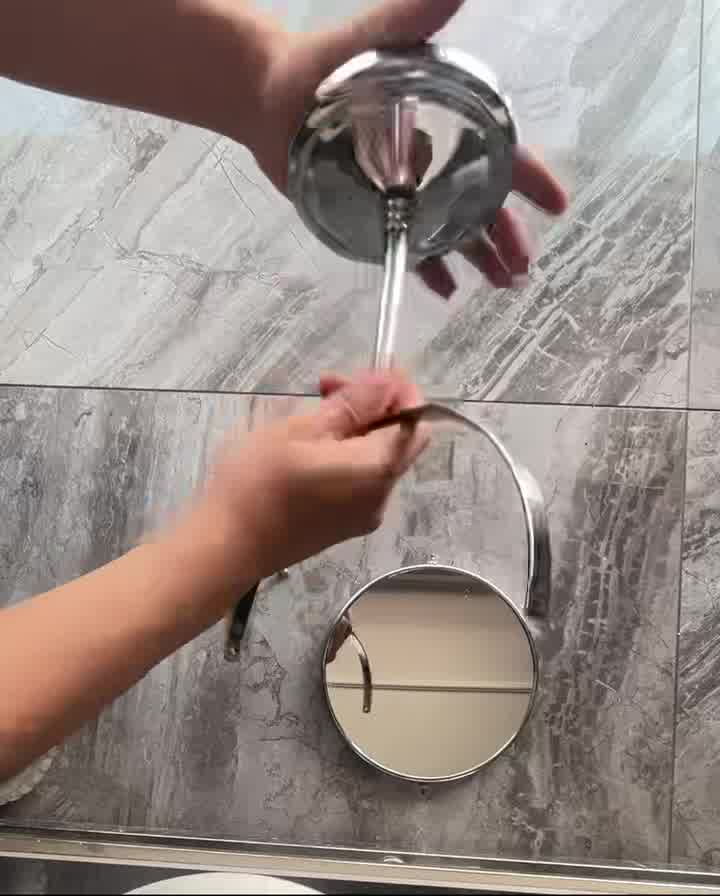base: (283, 31, 556, 286)
frame: (218, 208, 591, 654)
mirror: (313, 553, 596, 790)
screw: (268, 561, 300, 585)
